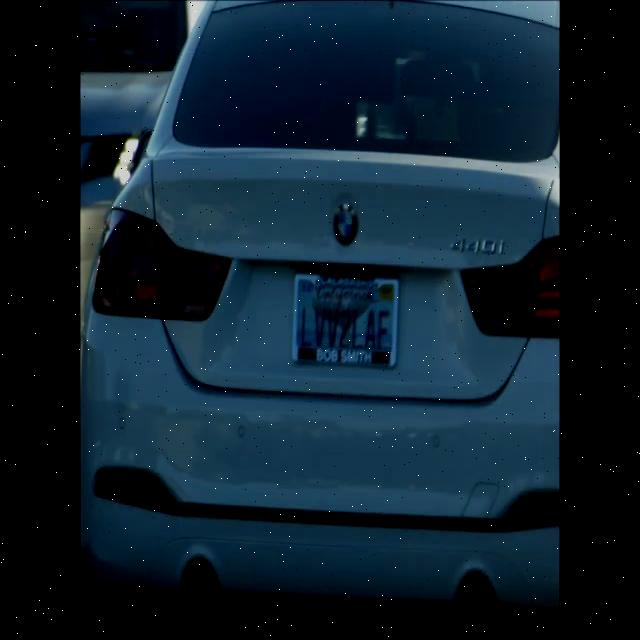licenseplate: (282, 246, 410, 386)
